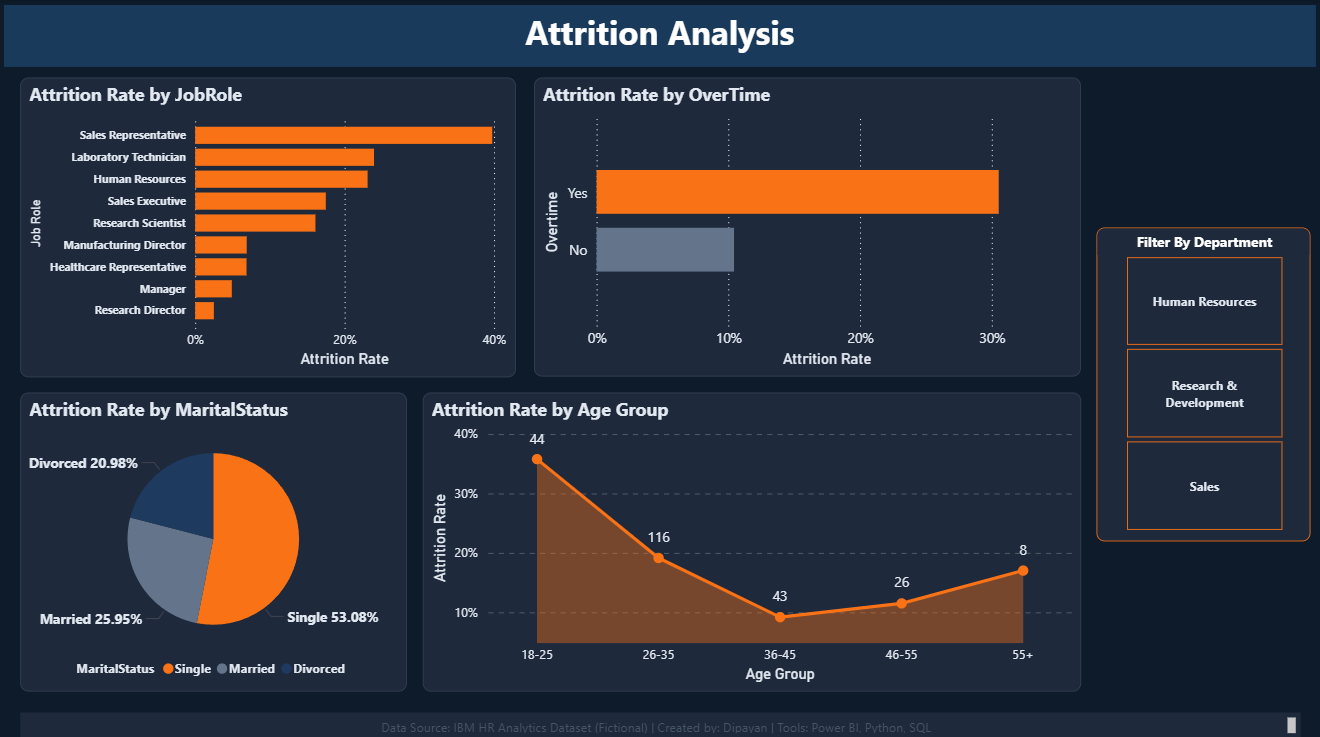

The dashboard page shown, as its layout file describes it:
{"tool":"powerbi","page":{"name":"Attrition Analysis","canvas":[1280,720],"ordinal":1},"visuals":[{"type":"barChart","fields":{"Category":["HR_Data.JobRole"],"Y":["_Measures.Attrition Rate"]},"box":[20,75,480,290],"z":0},{"type":"clusteredBarChart","fields":{"Category":["HR_Data.OverTime"],"Y":["_Measures.Attrition Rate"]},"box":[518.5,75.1,529.3,289.7],"z":1000},{"type":"pieChart","fields":{"Category":["HR_Data.MaritalStatus"],"Y":["_Measures.Attrition Rate"]},"box":[20.3,380.3,374.3,289.7],"z":2000},{"type":"slicer","title":"Filter By Department","fields":{"Values":["HR_Data.Department"]},"box":[1063.3,220.5,207.4,304],"z":3000},{"type":"lineChart","fields":{"Category":["HR_Data.Age Group"],"Y":["_Measures.Attrition Rate"]},"box":[410.1,380.3,637.7,289.7],"z":4000},{"type":"textbox","box":[20,690,1240,25],"z":5000},{"type":"textbox","box":[5,5,1270,60],"z":6000}]}

Visuals, with their boxes in screenshot pixels (x1, y1, x2, y2), scaled from the page's 1280x720 canvas onto the 1320x737 screenshot:
barChart - HR_Data.JobRole x _Measures.Attrition Rate: (x1=21, y1=77, x2=516, y2=374)
clusteredBarChart - HR_Data.OverTime x _Measures.Attrition Rate: (x1=535, y1=77, x2=1081, y2=373)
pieChart - HR_Data.MaritalStatus x _Measures.Attrition Rate: (x1=21, y1=389, x2=407, y2=686)
"Filter By Department" slicer: (x1=1097, y1=226, x2=1310, y2=537)
lineChart - HR_Data.Age Group x _Measures.Attrition Rate: (x1=423, y1=389, x2=1081, y2=686)
textbox: (x1=21, y1=706, x2=1299, y2=732)
textbox: (x1=5, y1=5, x2=1315, y2=67)
